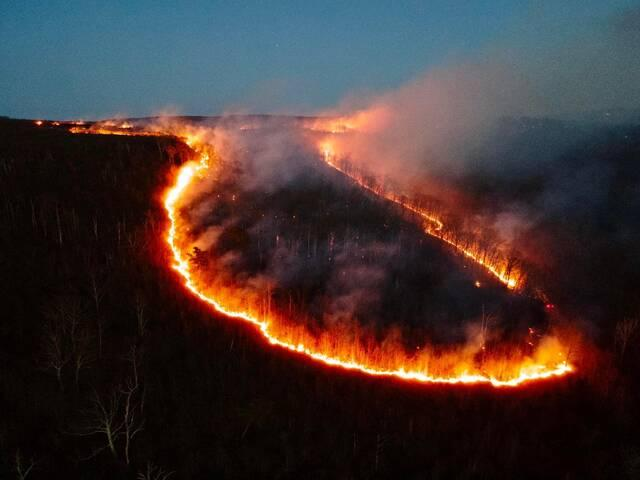fire: (266, 331, 438, 388), (421, 208, 520, 289), (165, 264, 266, 329), (154, 150, 214, 255), (321, 149, 415, 211), (448, 355, 586, 388), (73, 115, 188, 141)
